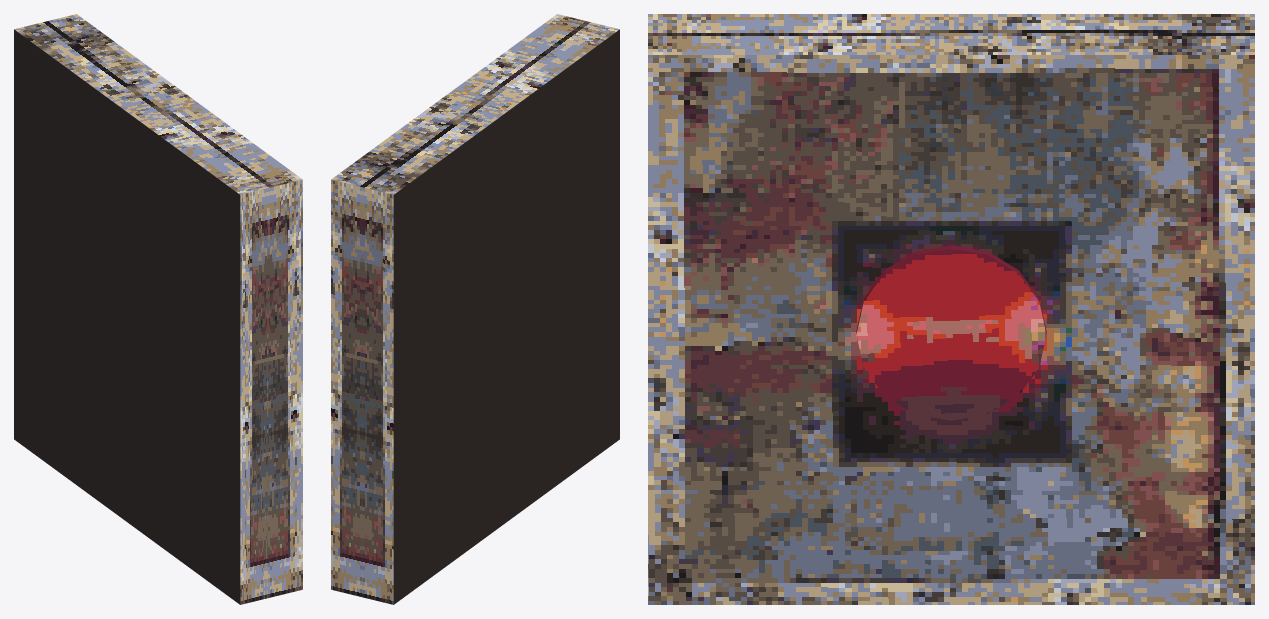
The model's file is butaopressionado.glb.
3 renders of one model, left to right at view 1: azimuth 30°, elevation 25°; view 2: azimuth 150°, elevation 25°; view 3: azimuth 270°, elevation 25°, orthographic. The views are drawn at different scales.
Parts seen in each view (by area): view 1: Cube; view 2: Cube; view 3: Cube, Cylinder.
Boxes of the visible parts, x1,y1,x2,y2 form: Cube: (14,14,302,604); Cube: (331,14,619,604); Cube: (648,14,1254,604); Cylinder: (856,245,1046,420).
Bounding box in the file's own units: 0.1715 × 0.9873 × 0.9873.
Materials: 1 (1 with a texture image).
